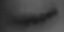LeftEyeFatigue: (3, 6, 64, 28)
